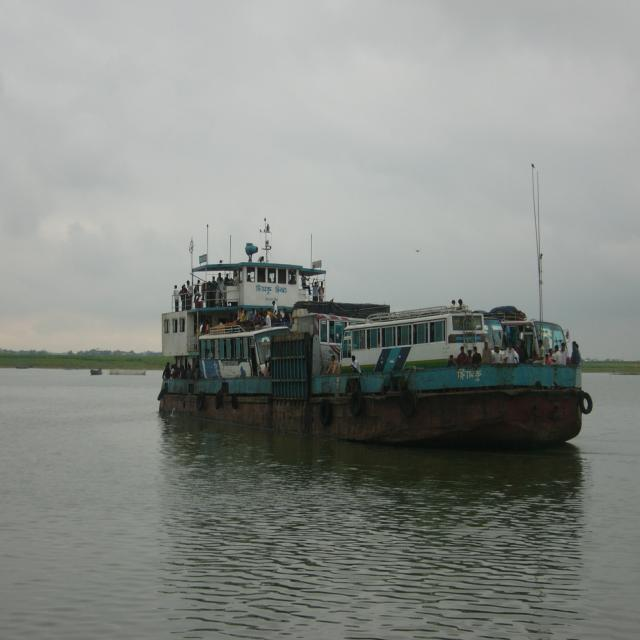cargoship: (161, 239, 602, 440)
